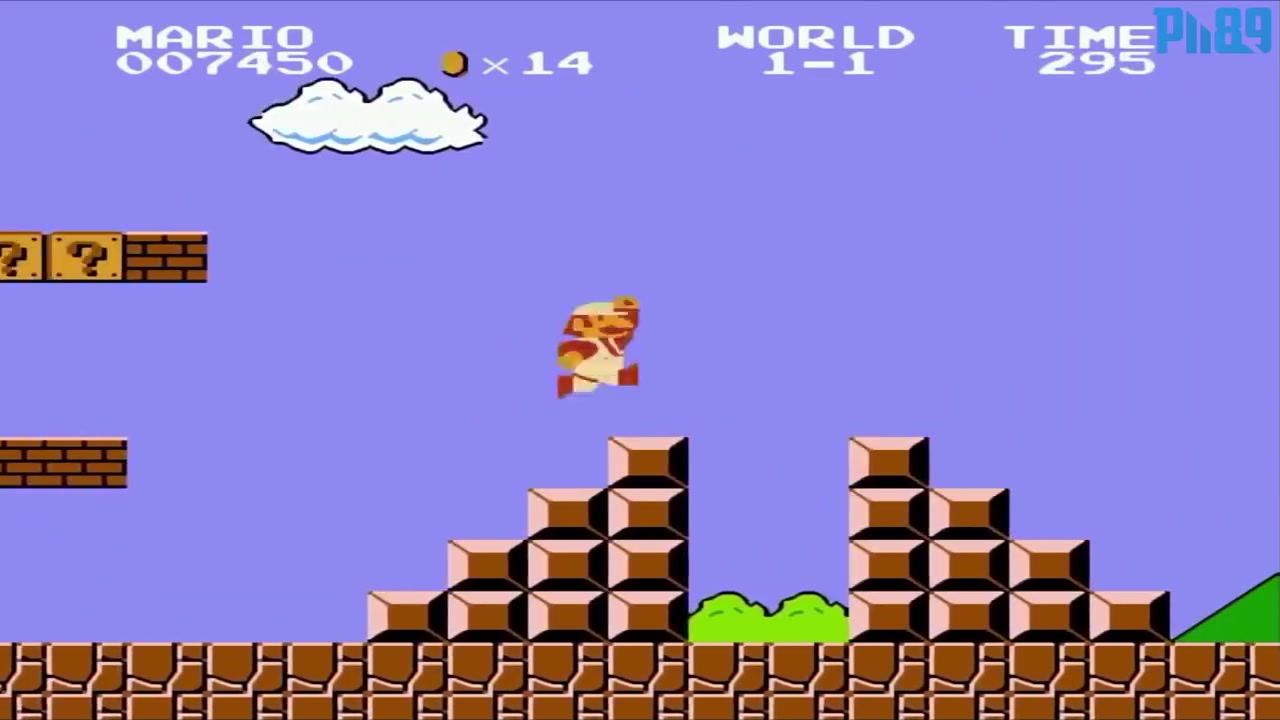mario: (553, 294, 645, 402)
